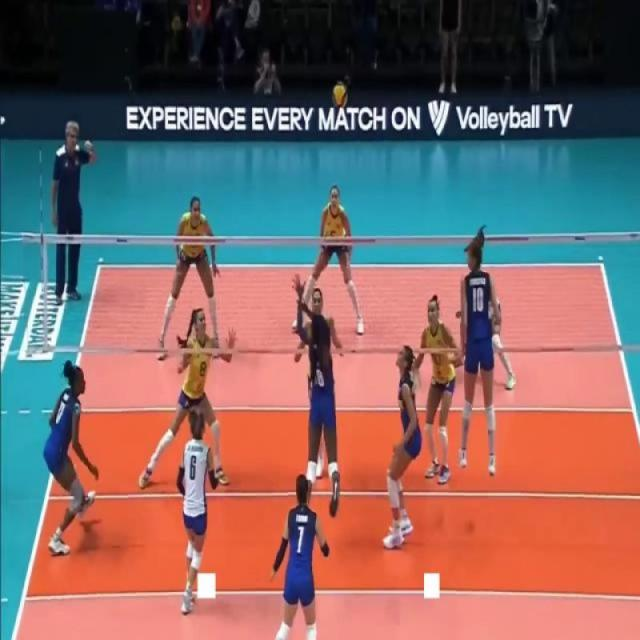volleyball: (332, 80, 348, 108)
